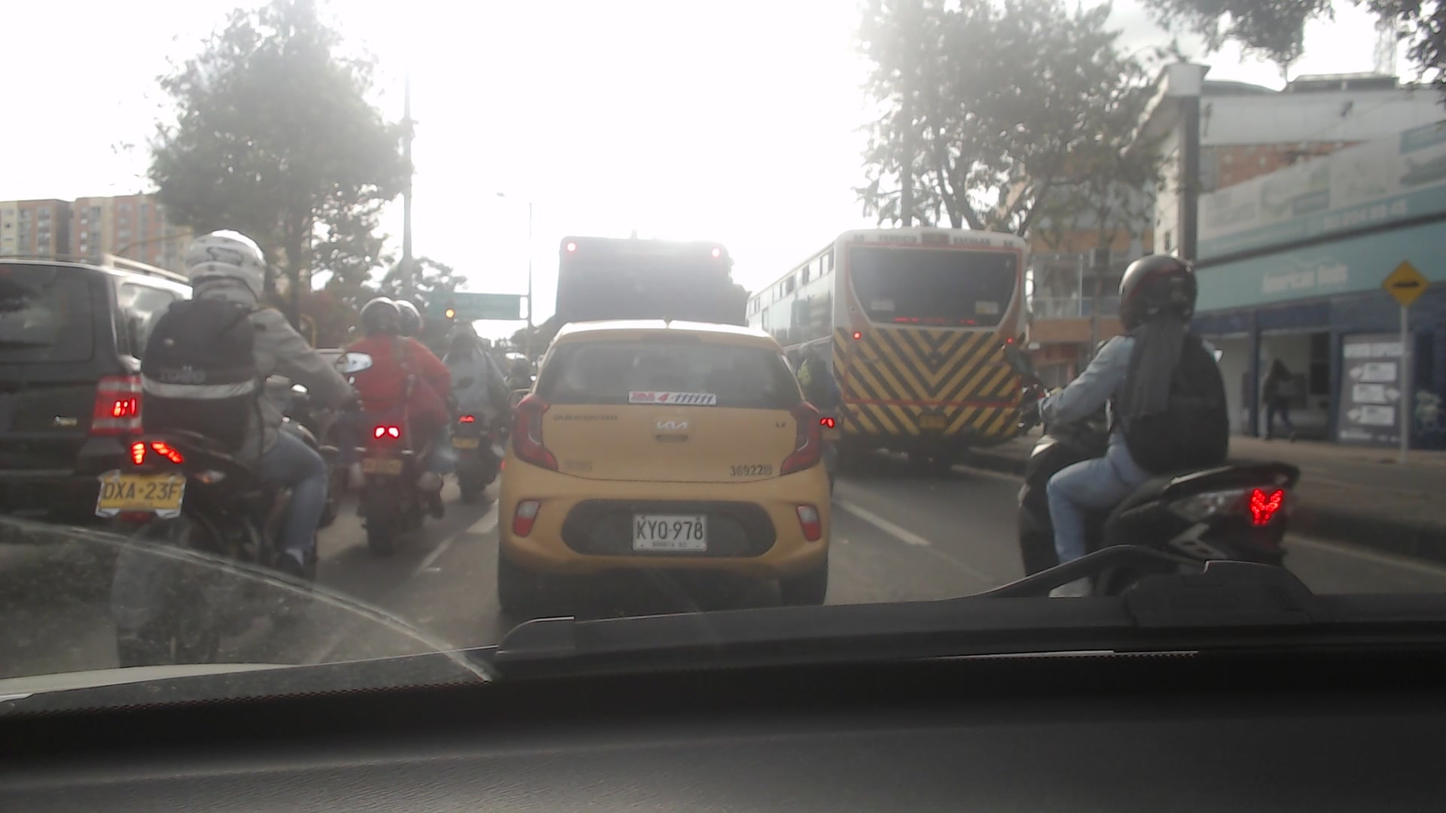bus: (742, 226, 1036, 466)
car: (493, 319, 840, 612), (0, 256, 202, 574)
motorcycle: (1009, 374, 1301, 603), (119, 427, 324, 679), (339, 413, 448, 554), (443, 413, 506, 501), (793, 401, 850, 493)
person: (146, 226, 334, 514), (1053, 255, 1229, 549), (336, 300, 457, 462), (443, 322, 511, 437), (778, 338, 848, 410), (1254, 359, 1303, 443)
truck: (554, 229, 736, 326)
